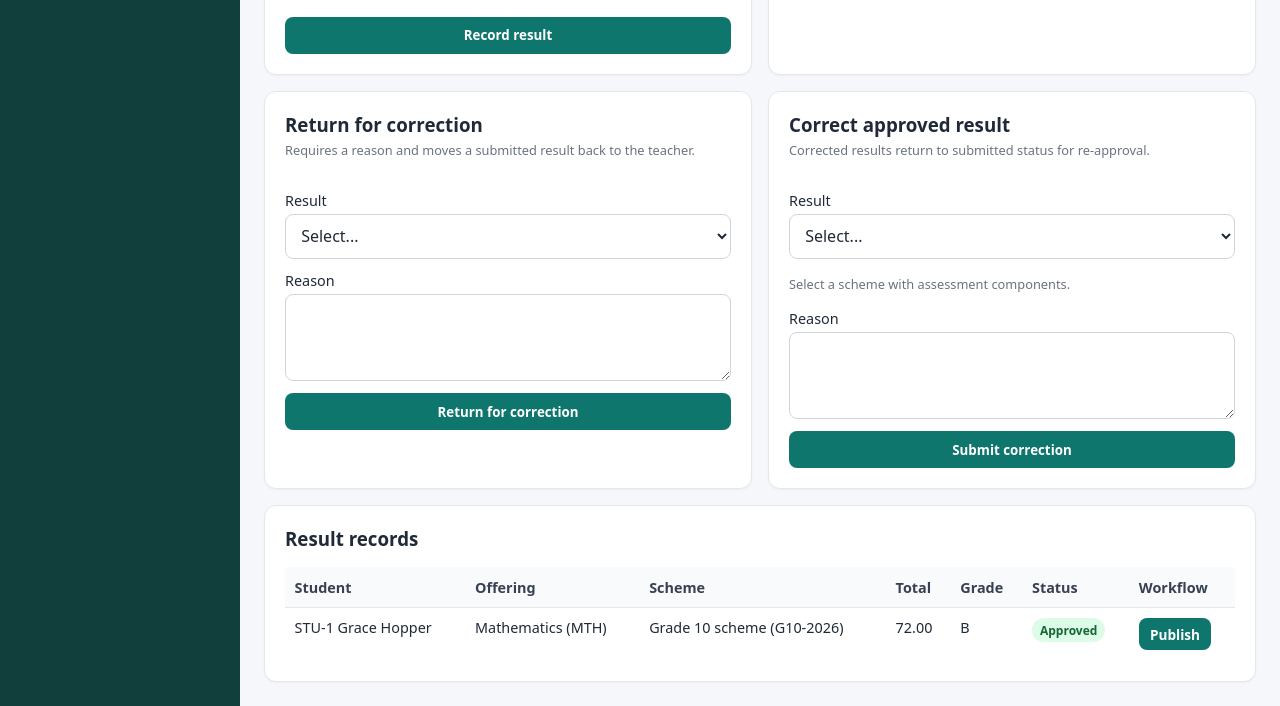
Scenario: workflows › shows a clear API error when publishing is rejected
The width and height of the screenshot is (1280, 706).
(page scrolled)
Click the button "Publish" at (1175, 634), box [1139,618,1211,650]
(page scrolled)
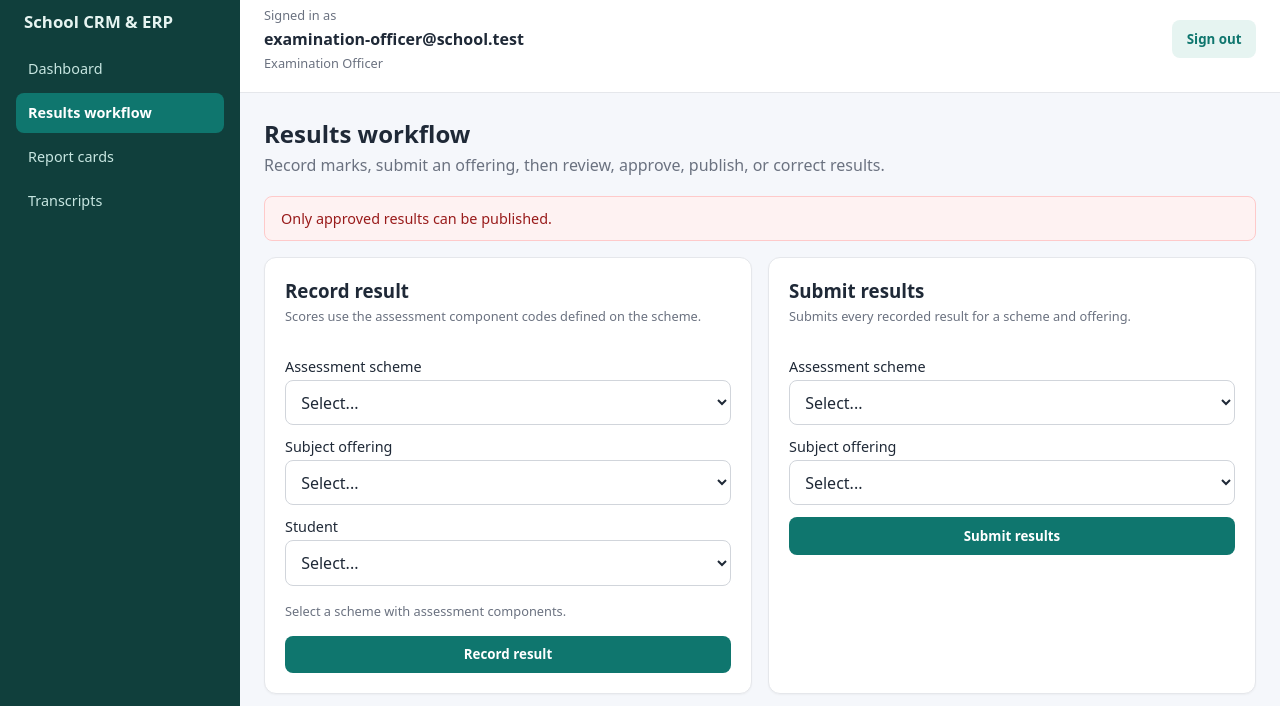
Now the message reads "Only approved results can be published.", box [281,209,552,228]
